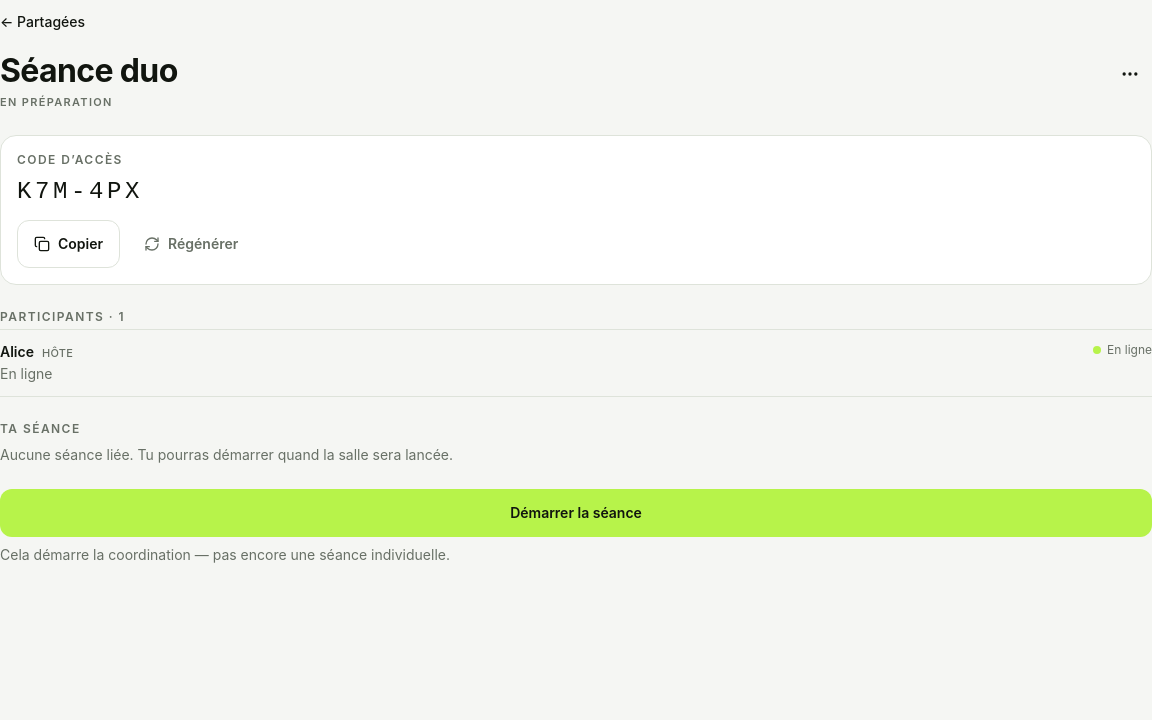
Scenario: SharedWorkoutRoomDetailPage › régénère le code après confirmation
The width and height of the screenshot is (1152, 720).
Click the button "Régénérer": (191, 244) [128,220,254,268]
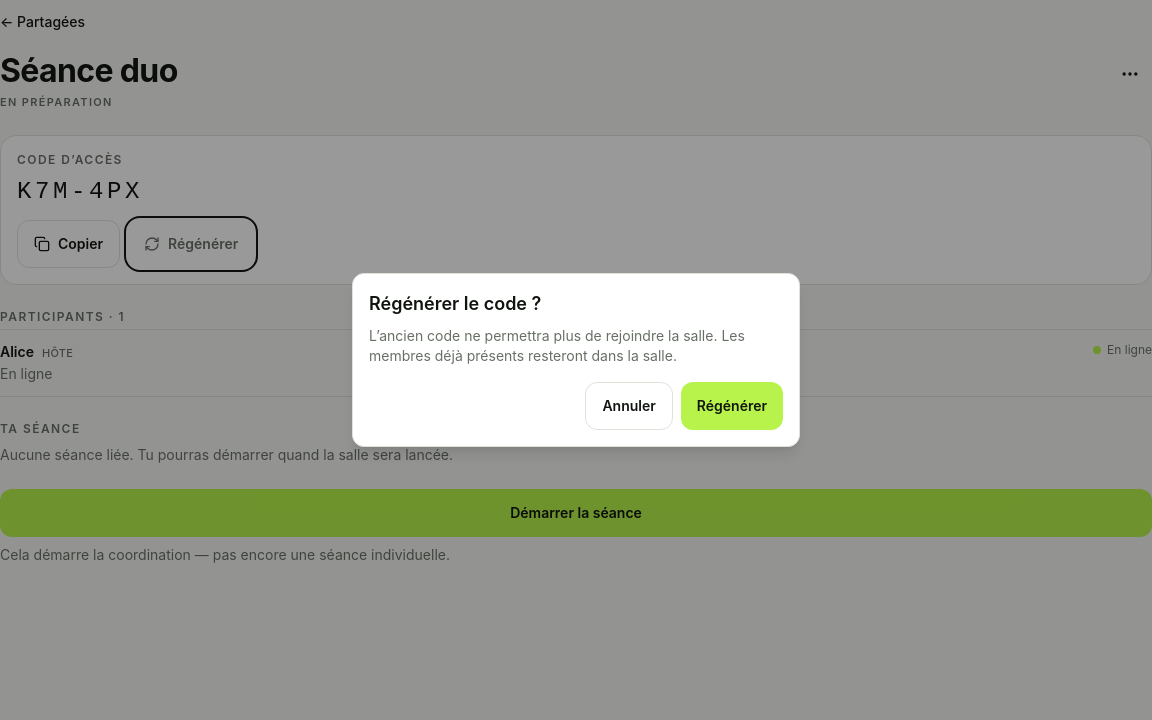
Expected: the dialog "Régénérer le code" is shown, [352,273,800,447]
Click the button "Régénérer": (732, 406) [681,382,783,430]
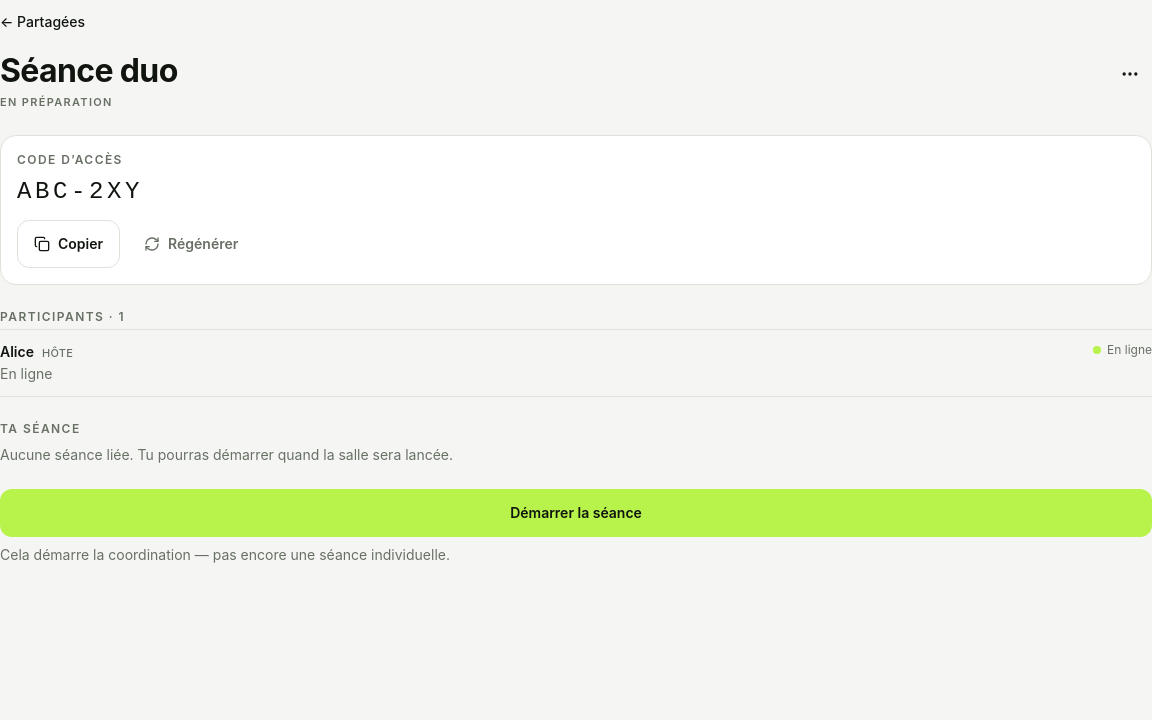
Expected: the text "ABC-2XY" is shown, [17,178,143,205]
